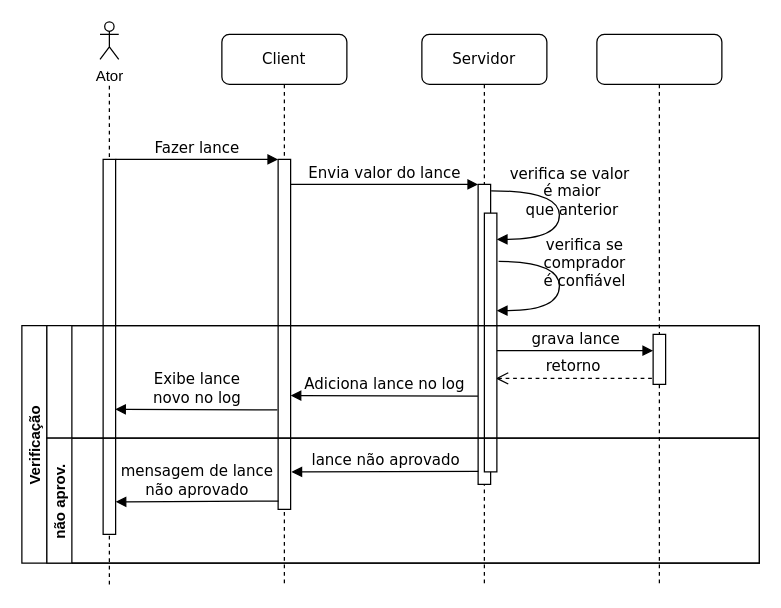
The diagram is 781 pixels wide and 608 high, and some of its shapes have lost their labels. The shapes that lost their labels are listed below. From the top down, each one's centre as x and y in pixels, then its label:
At [659,308]: "Banco de dados".
At [402,381]: "aprovado".
